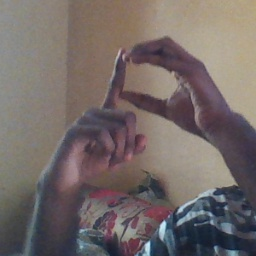P: (70, 32, 211, 172)
